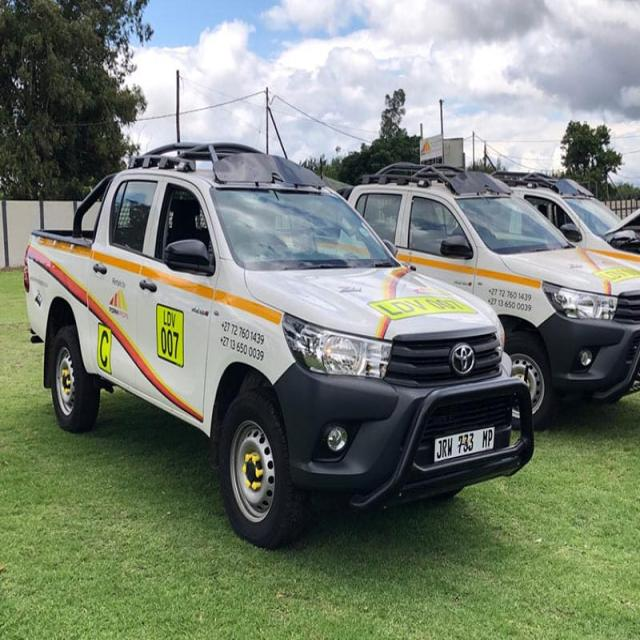light_vehicle: (10, 109, 542, 599)
